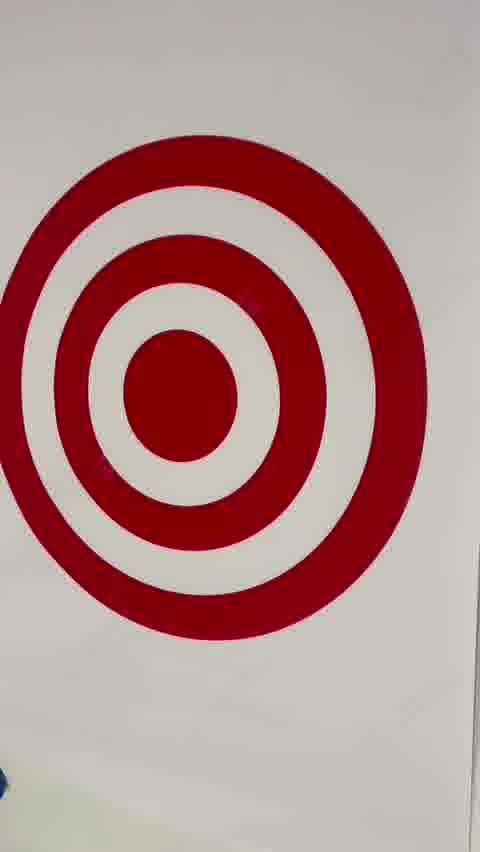target_red: (0, 134, 426, 640)
